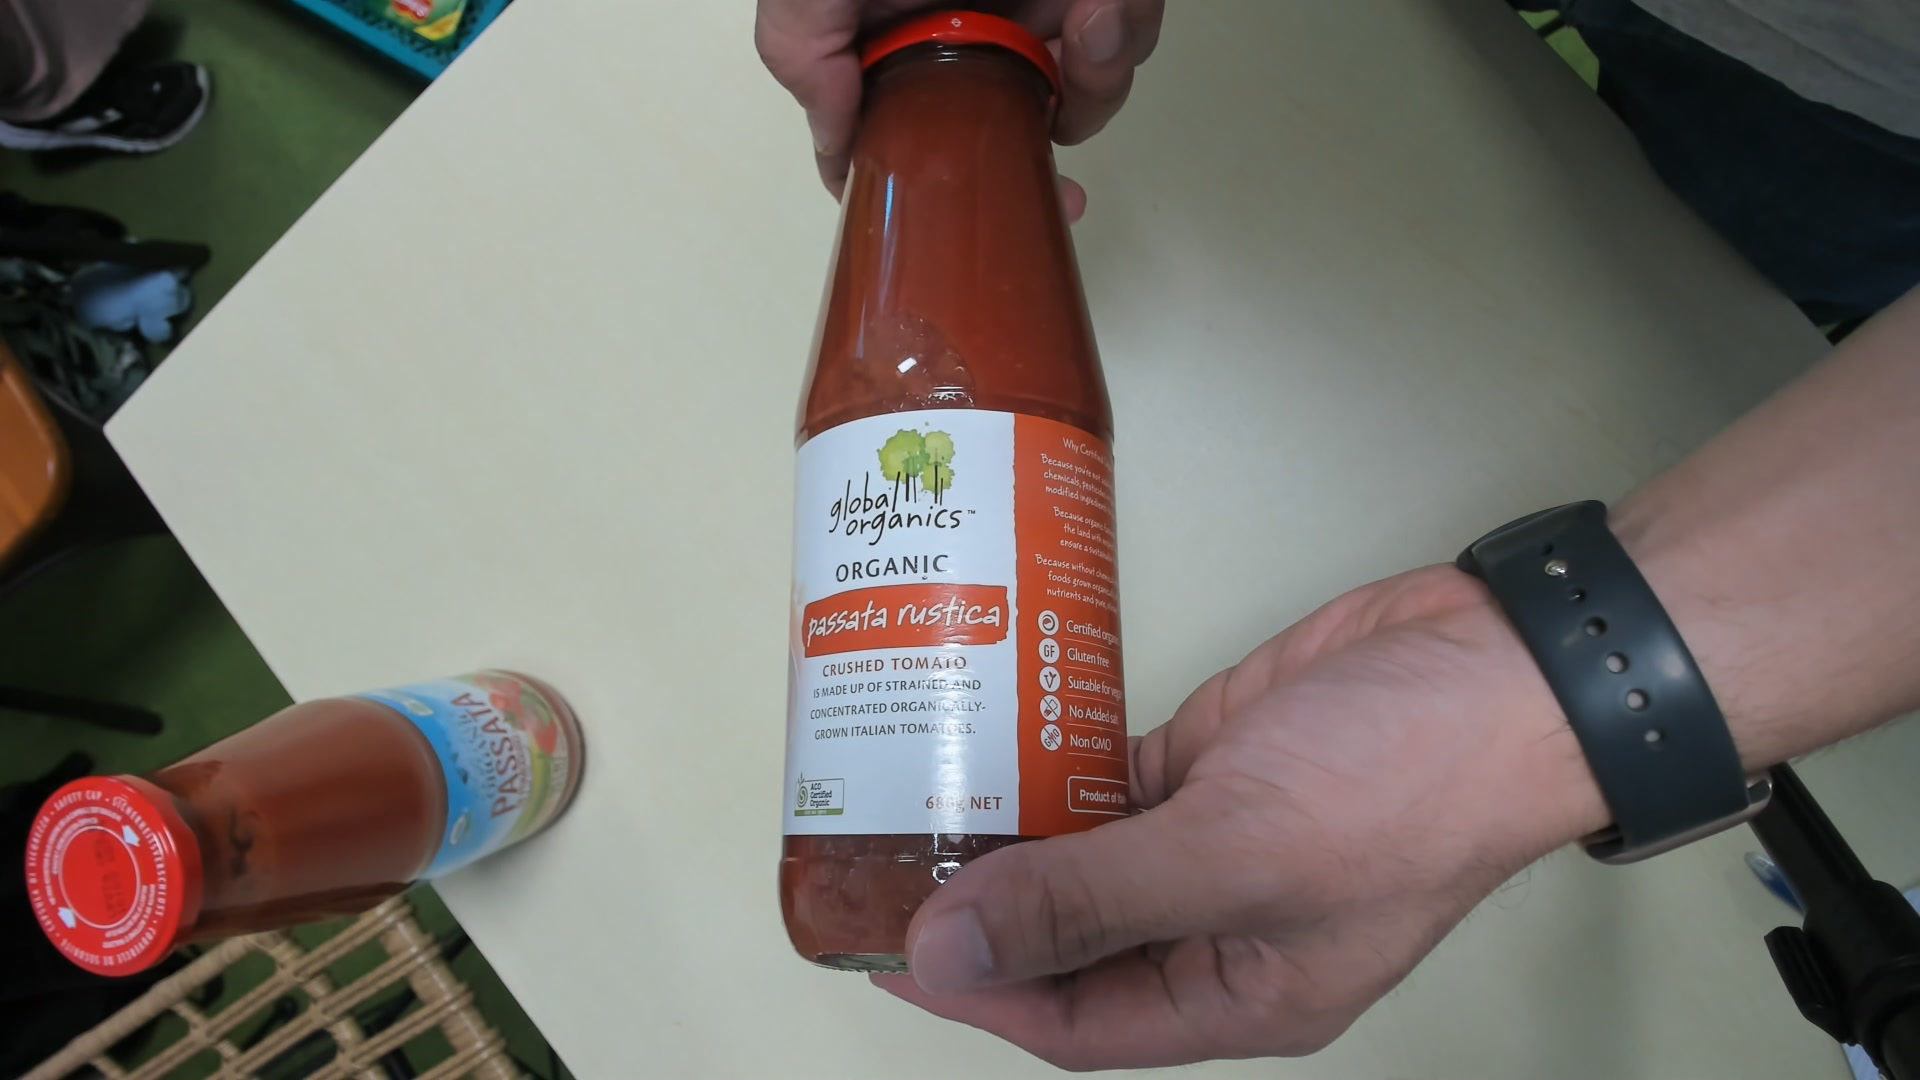PastaSauce_600-699g_NonHalal_NonHealthy: (798, 13, 1124, 957)
